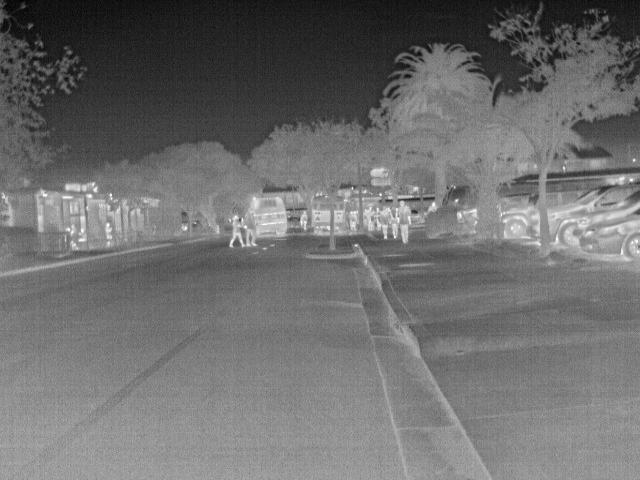car: (544, 181, 639, 250), (581, 206, 637, 262), (499, 206, 535, 240), (454, 206, 478, 226), (524, 213, 539, 243)
person: (396, 200, 414, 244), (227, 211, 245, 247), (377, 205, 393, 240), (243, 207, 256, 244), (297, 209, 311, 231), (388, 216, 400, 240), (101, 221, 114, 240), (76, 226, 88, 242), (427, 199, 439, 213)
